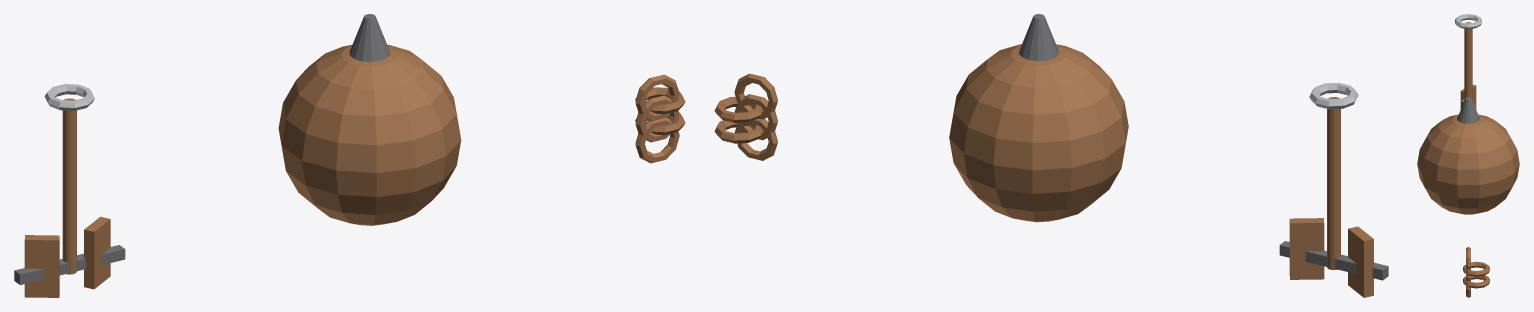
File: LL_Rusted_Props.fbx
3 views of the same model, side by side, from view 1: azimuth 30°, elevation 25°; view 2: azimuth 150°, elevation 25°; view 3: azimuth 270°, elevation 25° (orthographic). The views are drawn at different scales.
Parts seen in each view (by area): view 1: LL_Buoy, LL_Anchor_Shank, LL_Anchor_Fluke_L, LL_Anchor_Fluke_R, LL_Buoy_Top, LL_Anchor_Stock, LL_Anchor_Ring, LL_Chain_Link_0, LL_Chain_Link_4, LL_Chain_Link_2, LL_Chain_Link_3; view 2: LL_Buoy, LL_Anchor_Shank, LL_Anchor_Fluke_R, LL_Anchor_Fluke_L, LL_Buoy_Top, LL_Anchor_Stock, LL_Anchor_Ring, LL_Chain_Link_4, LL_Chain_Link_0, LL_Chain_Link_3, LL_Chain_Link_2, LL_Chain_Link_1; view 3: LL_Buoy, LL_Anchor_Shank, LL_Buoy_Top, LL_Anchor_Ring, LL_Chain_Link_3, LL_Chain_Link_1, LL_Anchor_Fluke_L, LL_Chain_Link_4.
Part boxes in pixels (left/top/right/bottom): LL_Buoy: left=278, top=44, right=461, bottom=225; LL_Anchor_Shank: left=62, top=98, right=76, bottom=274; LL_Anchor_Fluke_L: left=24, top=235, right=59, bottom=297; LL_Anchor_Fluke_R: left=84, top=216, right=110, bottom=289; LL_Buoy_Top: left=349, top=14, right=390, bottom=61; LL_Anchor_Stock: left=14, top=245, right=125, bottom=284; LL_Anchor_Ring: left=44, top=84, right=94, bottom=110; LL_Chain_Link_0: left=635, top=117, right=679, bottom=163; LL_Chain_Link_4: left=635, top=74, right=679, bottom=121; LL_Chain_Link_2: left=635, top=95, right=679, bottom=142; LL_Chain_Link_3: left=635, top=87, right=685, bottom=114; LL_Buoy: left=949, top=44, right=1128, bottom=222; LL_Anchor_Shank: left=1327, top=97, right=1340, bottom=269; LL_Anchor_Fluke_R: left=1289, top=218, right=1324, bottom=279; LL_Anchor_Fluke_L: left=1348, top=226, right=1373, bottom=297; LL_Buoy_Top: left=1019, top=14, right=1058, bottom=61; LL_Anchor_Stock: left=1279, top=241, right=1388, bottom=280; LL_Anchor_Ring: left=1309, top=83, right=1358, bottom=109; LL_Chain_Link_4: left=734, top=73, right=777, bottom=119; LL_Chain_Link_0: left=734, top=118, right=777, bottom=160; LL_Chain_Link_3: left=714, top=96, right=763, bottom=122; LL_Chain_Link_2: left=734, top=94, right=777, bottom=140; LL_Chain_Link_1: left=714, top=120, right=763, bottom=143; LL_Buoy: left=1417, top=114, right=1519, bottom=214; LL_Anchor_Shank: left=1464, top=22, right=1472, bottom=100; LL_Buoy_Top: left=1457, top=97, right=1479, bottom=123; LL_Anchor_Ring: left=1455, top=14, right=1481, bottom=29; LL_Chain_Link_3: left=1463, top=261, right=1489, bottom=276; LL_Chain_Link_1: left=1463, top=275, right=1489, bottom=288; LL_Anchor_Fluke_L: left=1460, top=84, right=1476, bottom=105; LL_Chain_Link_4: left=1466, top=247, right=1470, bottom=270.
Bounding box in the file's own units: 2.69 × 0.8237 × 0.64.
